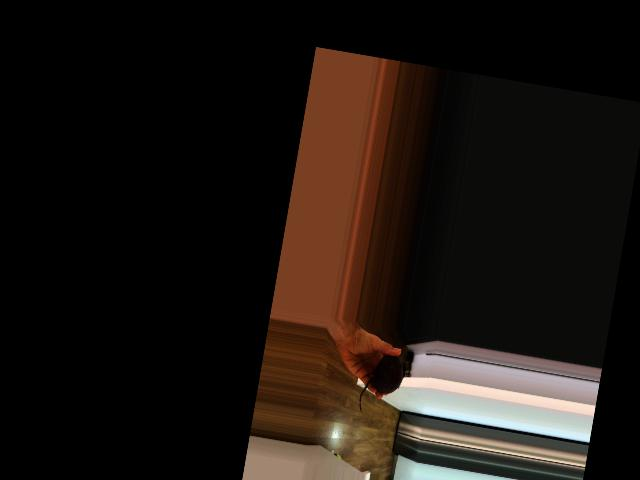beet: (357, 351, 407, 418)
